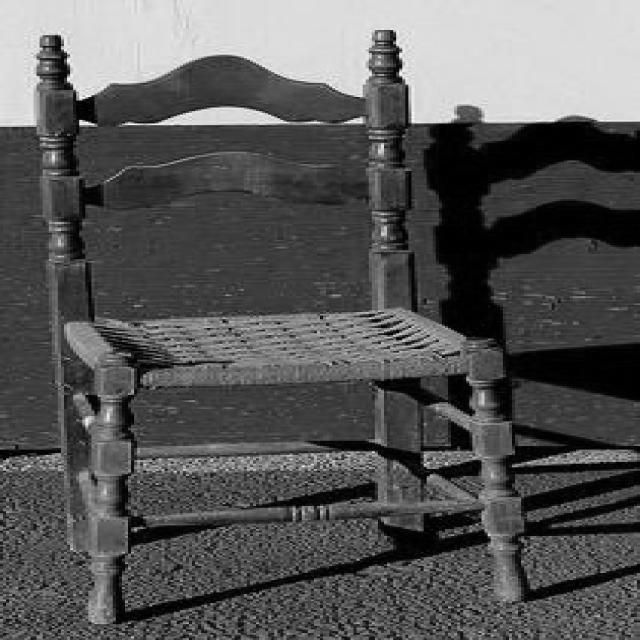chair: (31, 26, 537, 624)
